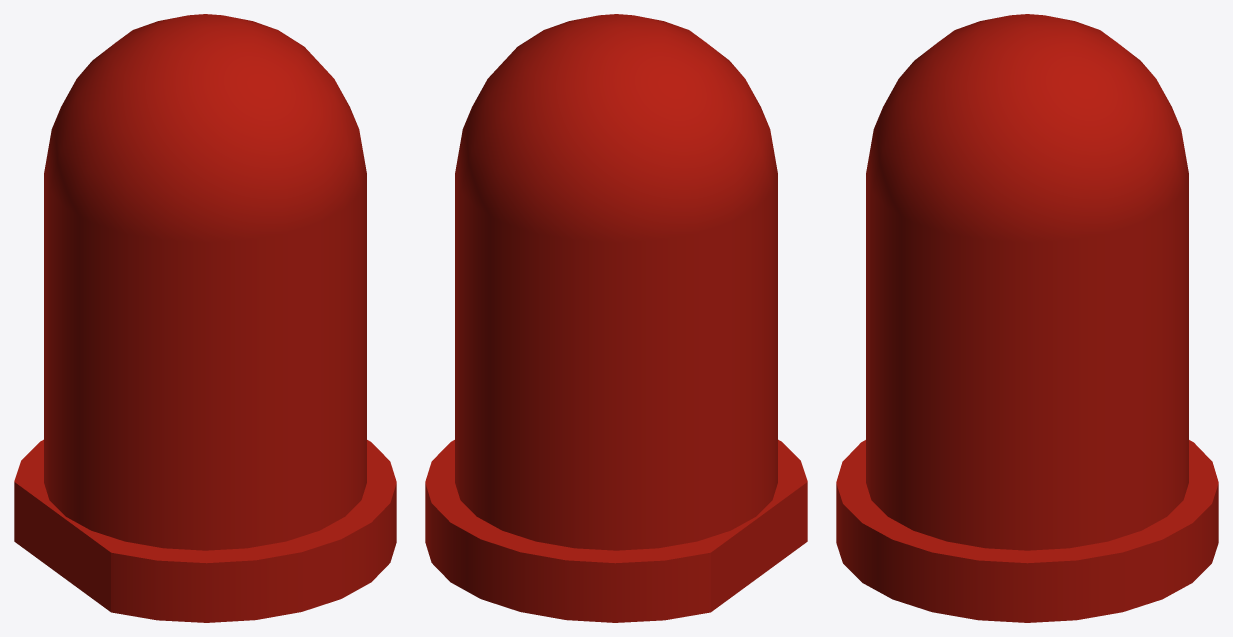
File: led5.glb
3 views of the same model, side by side, from view 1: azimuth 30°, elevation 25°; view 2: azimuth 150°, elevation 25°; view 3: azimuth 270°, elevation 25° (orthographic).
Visible parts, largest first — view 1: REF**; view 2: REF**; view 3: REF**.
Boxes of the visible parts, x1,y1,x2,y2 form: REF**: (14,14,396,622); REF**: (425,14,807,622); REF**: (836,14,1218,622).
Size of the model in its own units: 5.4 by 8.6 by 5.8.
